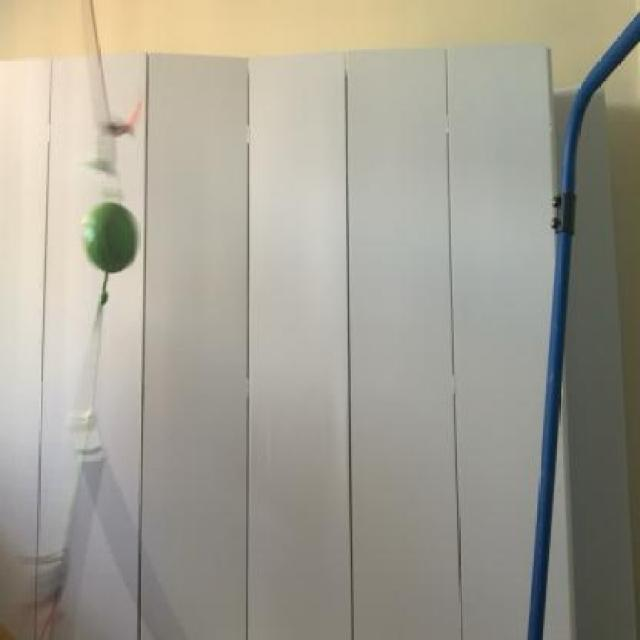baseball: (77, 193, 145, 273)
